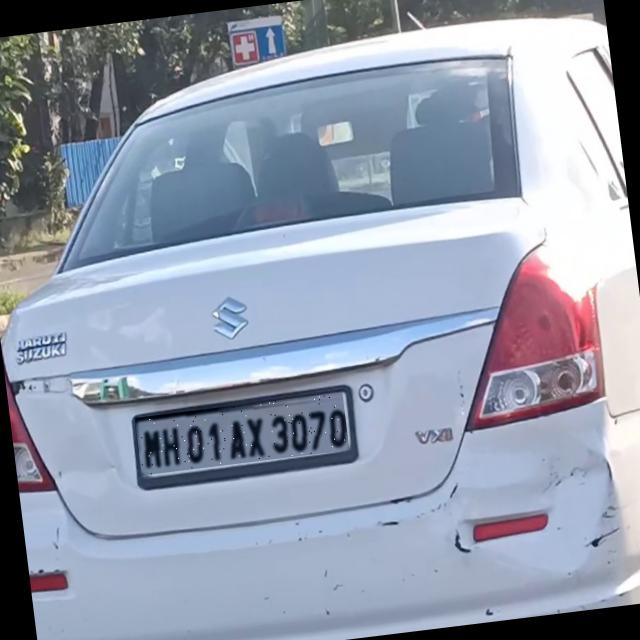Plate: (136, 393, 350, 476)
